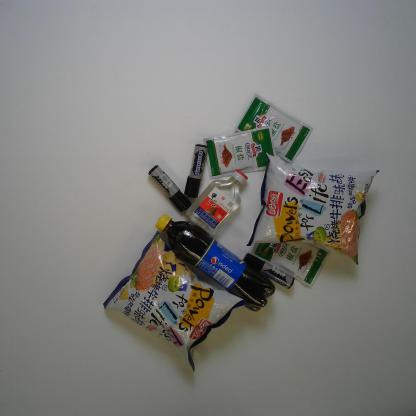Alcohol: (185, 169, 249, 237)
Drink: (155, 213, 276, 313)
Puffed Food: (102, 228, 248, 374), (245, 151, 380, 266)
Seasoner: (234, 92, 314, 165), (202, 125, 276, 180), (251, 242, 332, 289)
Stationery: (148, 164, 193, 213), (242, 252, 296, 289), (184, 143, 209, 199)
